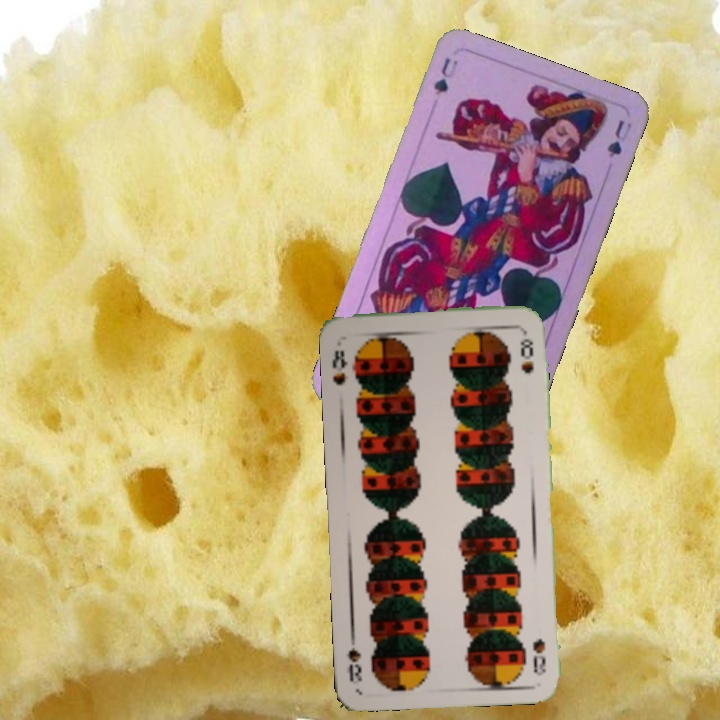GU: (429, 53, 461, 98)
S8: (328, 346, 350, 388), (529, 634, 549, 677)
